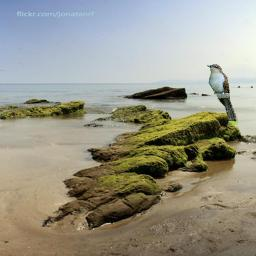Cuckoo: (207, 64, 238, 125)
